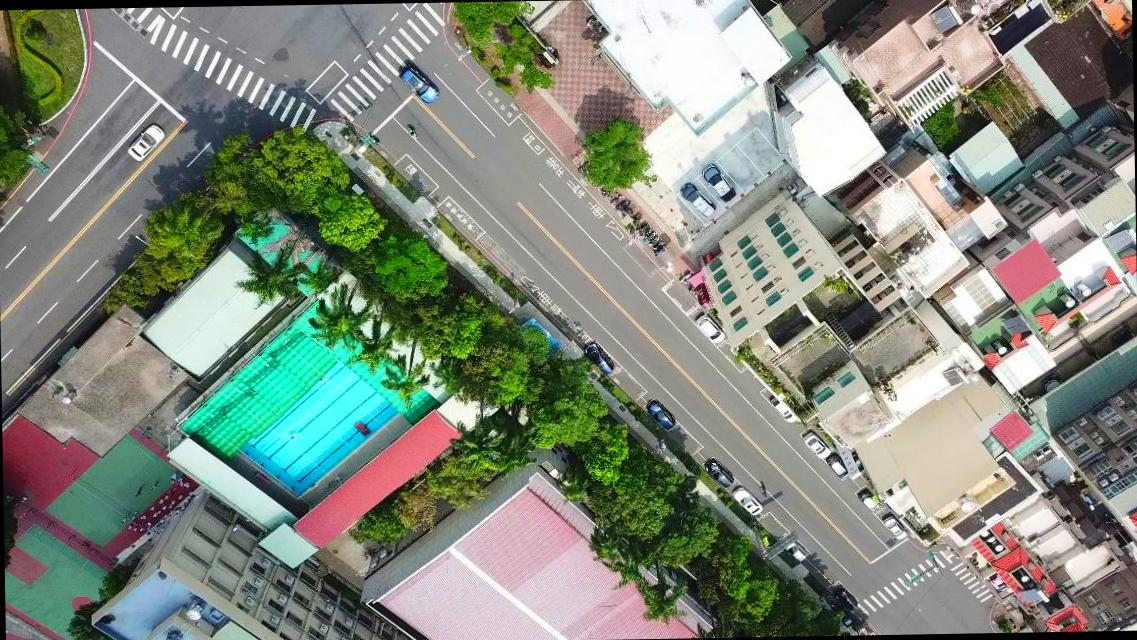vehicle: (397, 64, 438, 104), (126, 124, 164, 163), (701, 163, 736, 203), (680, 182, 716, 219), (583, 342, 614, 377), (644, 398, 676, 430), (732, 486, 763, 516), (696, 312, 724, 343), (801, 431, 830, 460), (704, 459, 733, 488), (826, 454, 851, 482), (832, 586, 858, 612), (768, 398, 794, 423), (882, 516, 906, 542), (782, 537, 806, 561), (857, 489, 880, 512)
